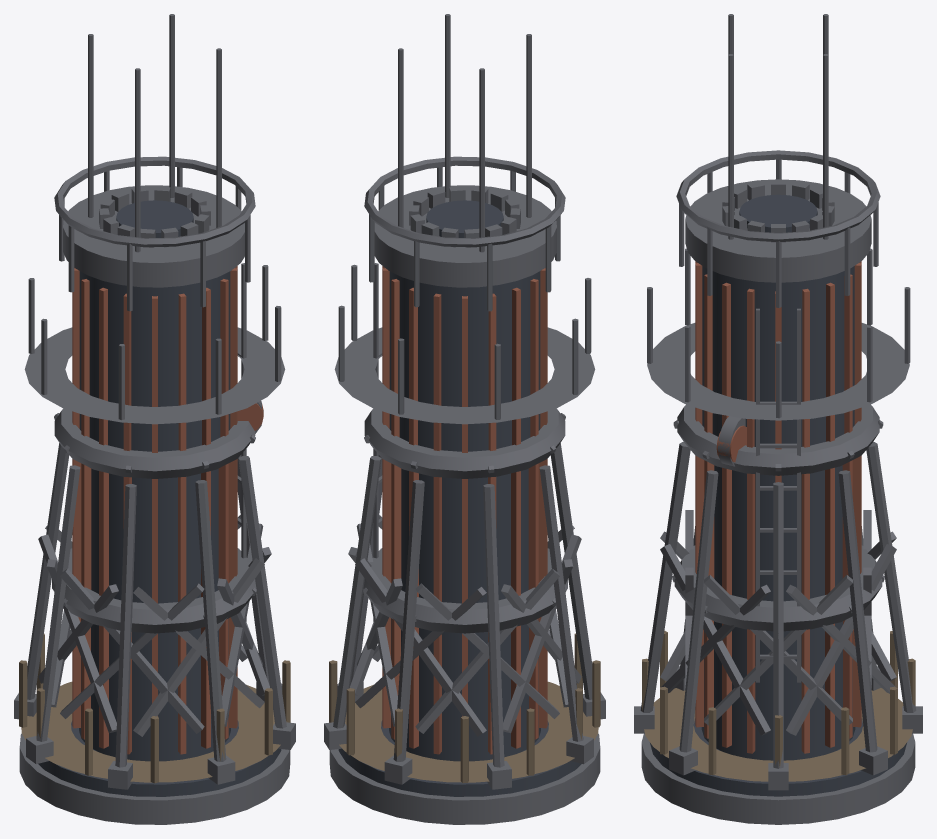
File: generator.glb
The picture shows the model from 3 angles, left to right: view 1: azimuth 30°, elevation 25°; view 2: azimuth 150°, elevation 25°; view 3: azimuth 270°, elevation 25°; orthographic projection.
Visible parts, largest first — view 1: generator; view 2: generator; view 3: generator.
Part boxes in pixels (x1,y1,x2,y2): generator: (14,14,295,824); generator: (324,14,605,824); generator: (634,14,922,824).
Bounding box in the file's own units: 1 × 2.8 × 1.
